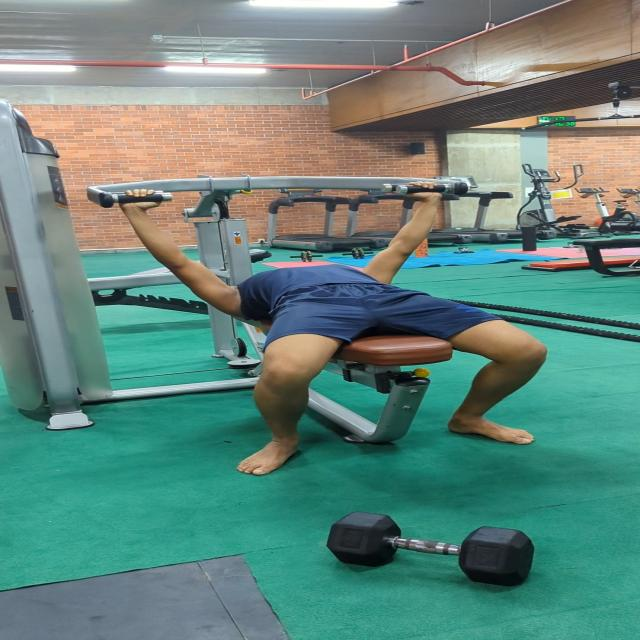Normal_BrenchPress: (105, 177, 628, 488)
